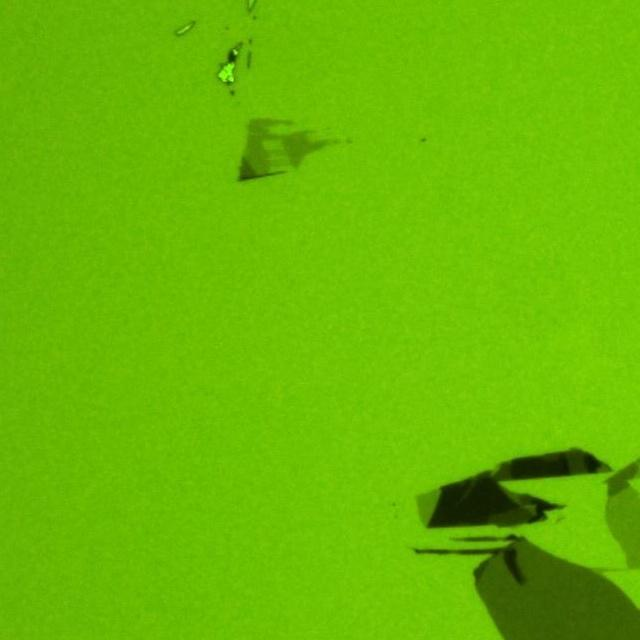monolayer-eWW4: (607, 485, 640, 570), (248, 112, 278, 179), (278, 130, 327, 170), (416, 490, 442, 528)
